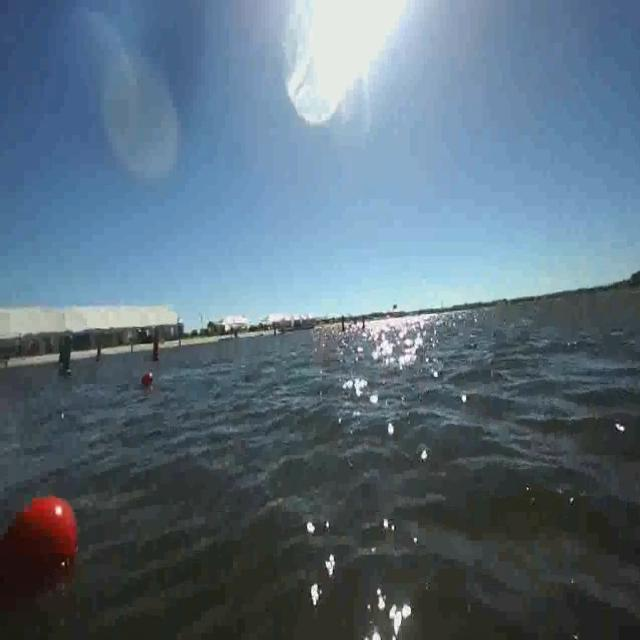red-buoy: (2, 496, 82, 610)
